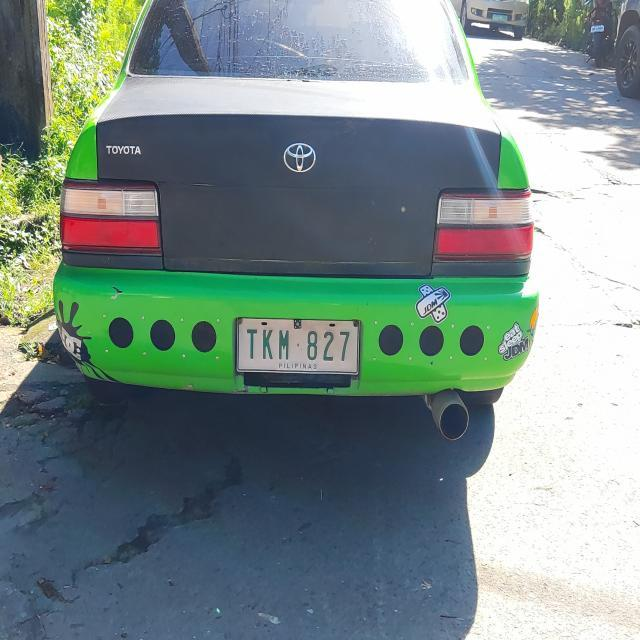LicensePlate: (227, 306, 366, 381)
